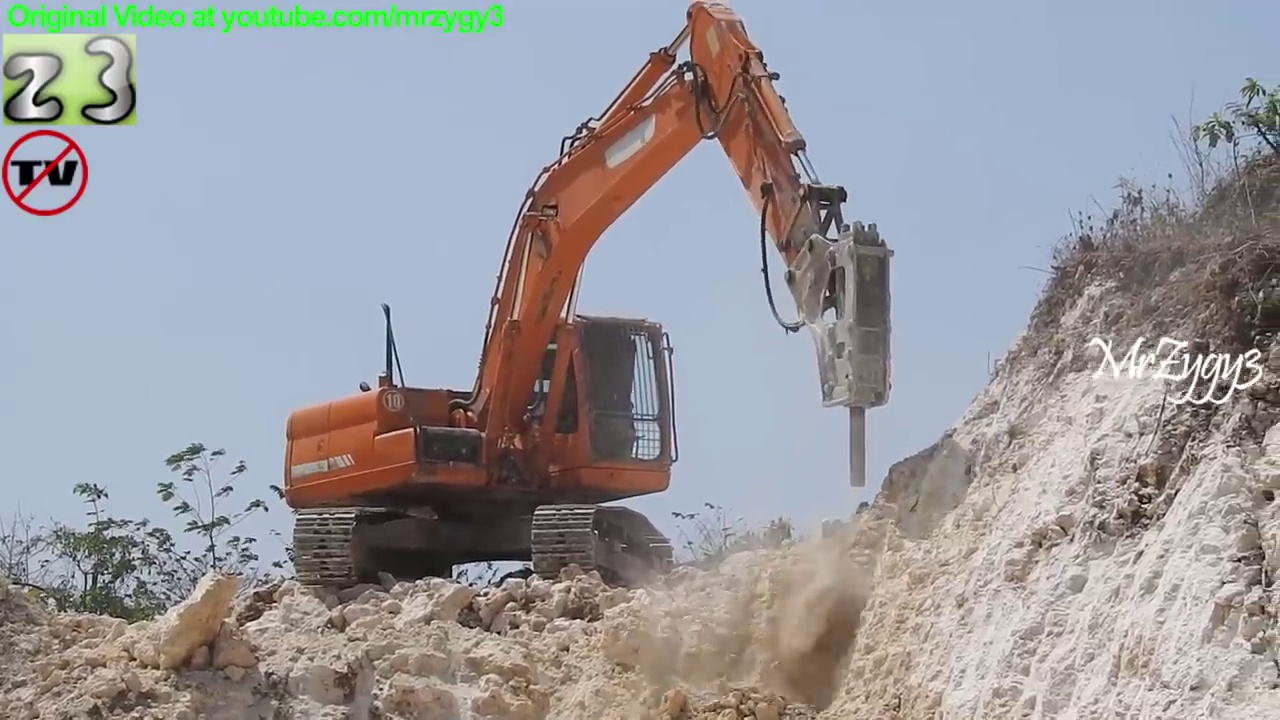excavator breaker: (270, 1, 903, 610)
